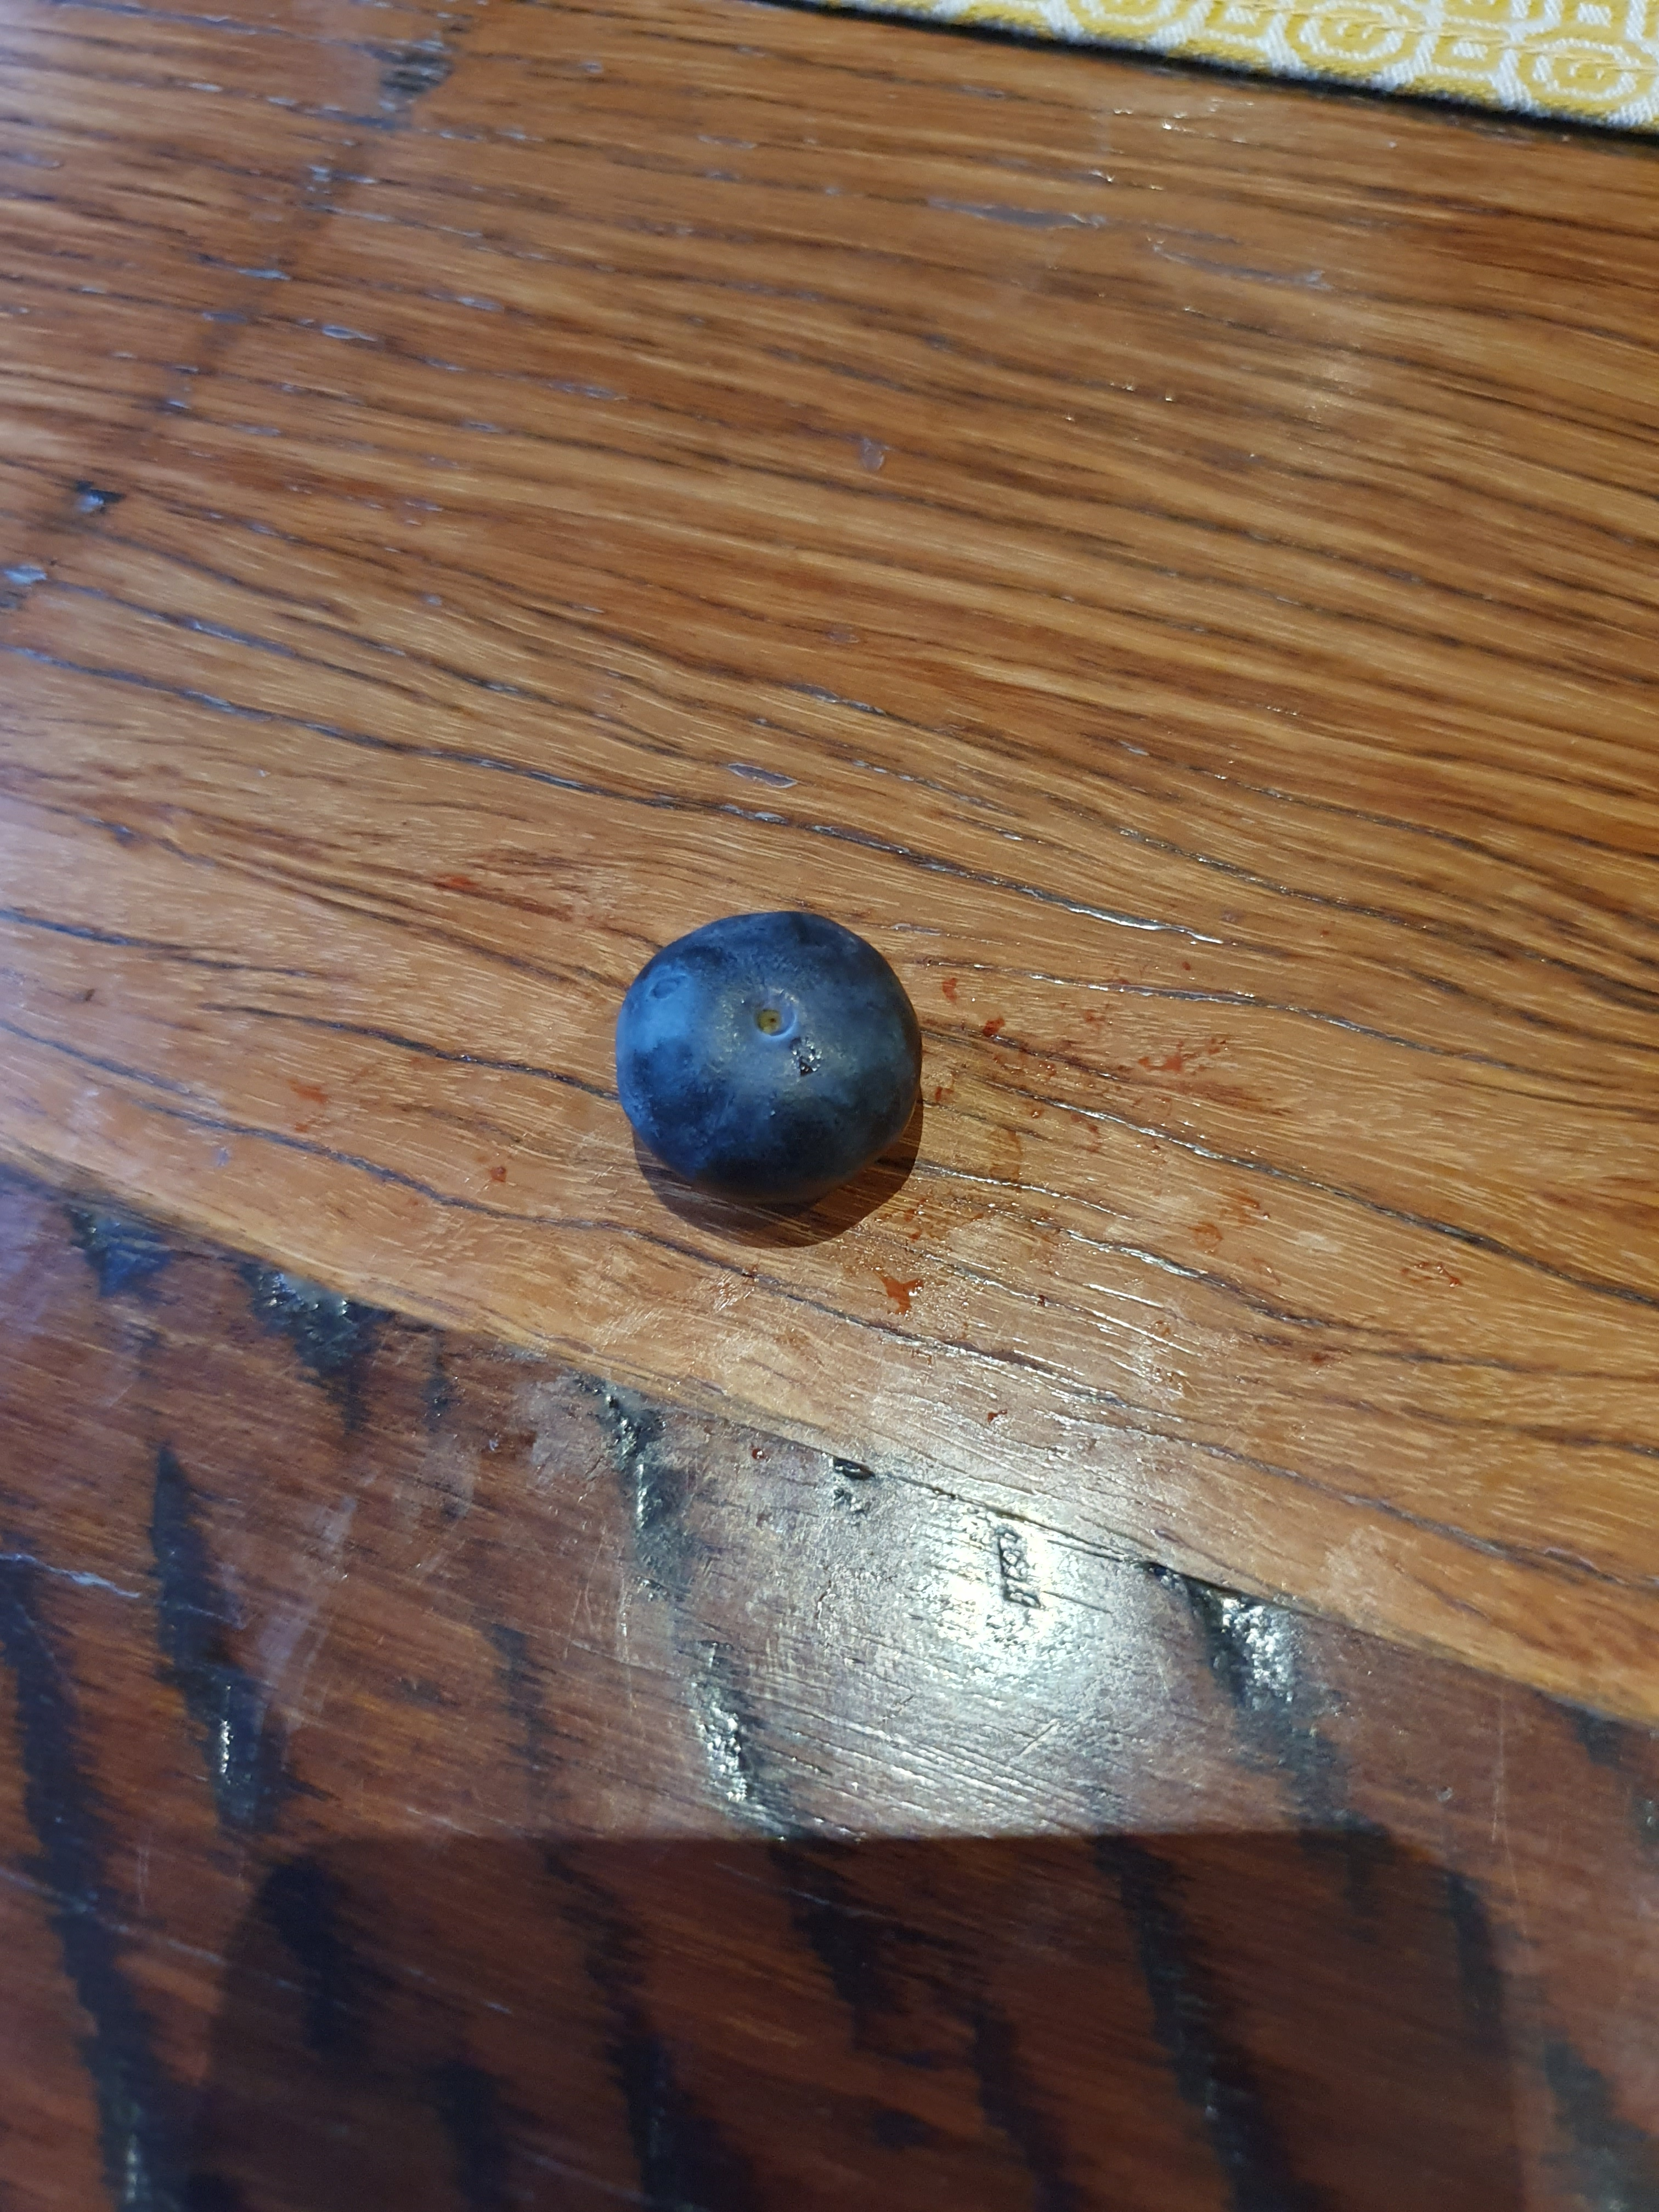blueberry: (572, 888, 945, 1230)
